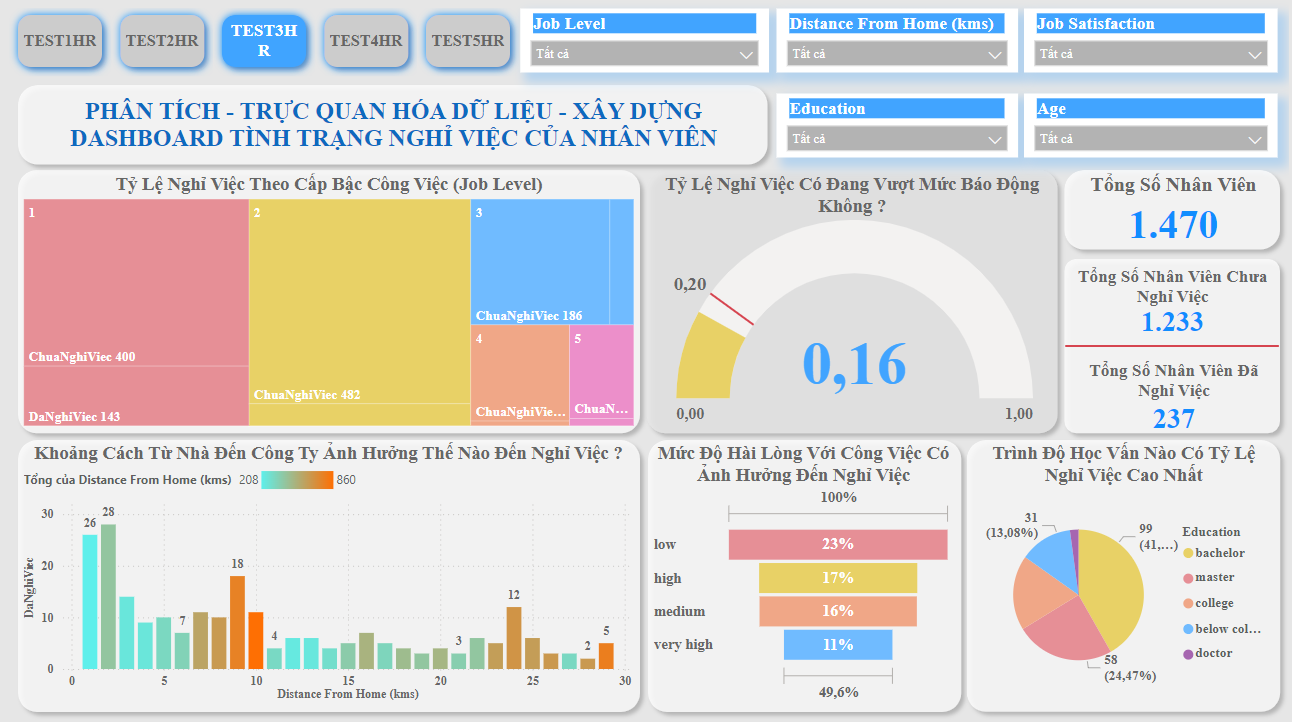

This screenshot's page, from the dashboard's own definition file:
{"tool":"powerbi","page":{"name":"TEST3HR","canvas":[1280,720],"ordinal":2},"visuals":[{"type":"shape","box":[0,160,640,281.2],"z":0},{"type":"shape","box":[628.8,160,428.8,281.2],"z":1000},{"type":"shape","box":[0,430,640,290],"z":2000},{"type":"shape","box":[630,430,331.2,290],"z":3000},{"type":"treemap","title":"Tỷ Lệ Nghỉ Việc Theo Cấp Bậc Công Việc (Job Level)","fields":{"Group":["Employee-turnover (3).Job Level"],"Values":["All Measures.ChuaNghiViec","All Measures.DaNghiViec"]},"box":[10,172.5,620,257.5],"z":4000},{"type":"gauge","title":"Tỷ Lệ Nghỉ Việc Có Đang Vượt Mức Báo Động Không ? ","fields":{"TargetValue":["All Measures.Warning Level"],"Y":["All Measures.Attrition Rate"]},"box":[640,172.5,406.2,257.5],"z":5000},{"type":"shape","box":[0,75,767.5,97.5],"z":6000},{"type":"textbox","box":[27.3,90.9,714.1,67.5],"z":7000},{"type":"clusteredColumnChart","title":"Khoảng Cách Từ Nhà Đến Công Ty Ảnh Hưởng Thế Nào Đến Nghỉ Việc ?","fields":{"Category":["Employee-turnover (3).Distance From Home (kms)"],"Y":["All Measures.DaNghiViec"]},"box":[10,441.2,618.8,263.8],"z":21000},{"type":"funnel","title":"Mức Độ Hài Lòng Với Công Việc Có Ảnh Hưởng Đến Nghỉ Việc","fields":{"Category":["Employee-turnover (3).Job Satisfaction"],"Y":["All Measures.%danghi"]},"box":[640,441.2,308.8,263.8],"z":22000},{"type":"shape","box":[948.9,430.4,331.4,289.8],"z":23000},{"type":"pieChart","title":"Trình Độ Học Vấn Nào Có Tỷ Lệ Nghỉ Việc Cao Nhất","fields":{"Category":["Employee-turnover (3).Education"],"Y":["All Measures.DaNghiViec"]},"box":[961.1,441.4,306.9,264.1],"z":24000},{"type":"pageNavigator","box":[0,5,512.5,70],"z":25000},{"type":"slicer","fields":{"Values":["Employee-turnover (3).Job Level"]},"box":[511.2,7.5,248.8,63.8],"z":26000},{"type":"slicer","fields":{"Values":["Employee-turnover (3).Distance From Home (kms)"]},"box":[767.5,7.5,241.2,63.8],"z":27000},{"type":"slicer","fields":{"Values":["Employee-turnover (3).Job Satisfaction"]},"box":[1015,7.5,253.8,63.8],"z":28000},{"type":"slicer","fields":{"Values":["Employee-turnover (3).Education"]},"box":[767.5,92.5,241.2,63.8],"z":29000},{"type":"slicer","fields":{"Values":["Employee-turnover (3).Age"]},"box":[1015,92.5,253.8,63.8],"z":30000},{"type":"shape","box":[1046.2,160,233.8,97.5],"z":31000},{"type":"card","title":"Tổng Số Nhân Viên","fields":{"Values":["All Measures.Total Emp"]},"box":[1056.2,172.5,216.2,76.2],"z":32000},{"type":"shape","box":[1046.2,248.8,233.8,192.5],"z":33000},{"type":"card","title":"Tổng Số Nhân Viên Chưa Nghỉ Việc","fields":{"Values":["All Measures.ChuaNghiViec"]},"box":[1062.5,266.2,202.5,70],"z":34000},{"type":"card","title":"Tổng Số Nhân Viên Đã Nghỉ Việc","fields":{"Values":["All Measures.DaNghiViec"]},"box":[1060,360,210,75],"z":35000},{"type":"shape","box":[1056.2,338.8,213.8,12.5],"z":36000}]}

Visuals, with their boxes in screenshot pixels (x1, y1, x2, y2), scaled from the page's 1280x720 canvas onto the 1292x722 screenshot:
shape: <region>0, 160, 646, 442</region>
shape: <region>635, 160, 1068, 442</region>
shape: <region>0, 431, 646, 721</region>
shape: <region>636, 431, 970, 721</region>
"Tỷ Lệ Nghỉ Việc Theo Cấp Bậc Công Việc (Job Level)" treemap: <region>10, 173, 636, 431</region>
"Tỷ Lệ Nghỉ Việc Có Đang Vượt Mức Báo Động Không ? " gauge: <region>646, 173, 1056, 431</region>
shape: <region>0, 75, 775, 173</region>
textbox: <region>28, 91, 748, 159</region>
"Khoảng Cách Từ Nhà Đến Công Ty Ảnh Hưởng Thế Nào Đến Nghỉ Việc ?" clusteredColumnChart: <region>10, 442, 635, 707</region>
"Mức Độ Hài Lòng Với Công Việc Có Ảnh Hưởng Đến Nghỉ Việc" funnel: <region>646, 442, 958, 707</region>
shape: <region>958, 432, 1291, 721</region>
"Trình Độ Học Vấn Nào Có Tỷ Lệ Nghỉ Việc Cao Nhất" pieChart: <region>970, 443, 1280, 707</region>
pageNavigator: <region>0, 5, 517, 75</region>
slicer - Employee-turnover (3).Job Level: <region>516, 8, 767, 71</region>
slicer - Employee-turnover (3).Distance From Home (kms): <region>775, 8, 1018, 71</region>
slicer - Employee-turnover (3).Job Satisfaction: <region>1025, 8, 1281, 71</region>
slicer - Employee-turnover (3).Education: <region>775, 93, 1018, 157</region>
slicer - Employee-turnover (3).Age: <region>1025, 93, 1281, 157</region>
shape: <region>1056, 160, 1291, 258</region>
"Tổng Số Nhân Viên" card: <region>1066, 173, 1284, 249</region>
shape: <region>1056, 249, 1291, 443</region>
"Tổng Số Nhân Viên Chưa Nghỉ Việc" card: <region>1072, 267, 1277, 337</region>
"Tổng Số Nhân Viên Đã Nghỉ Việc" card: <region>1070, 361, 1282, 436</region>
shape: <region>1066, 340, 1282, 352</region>
